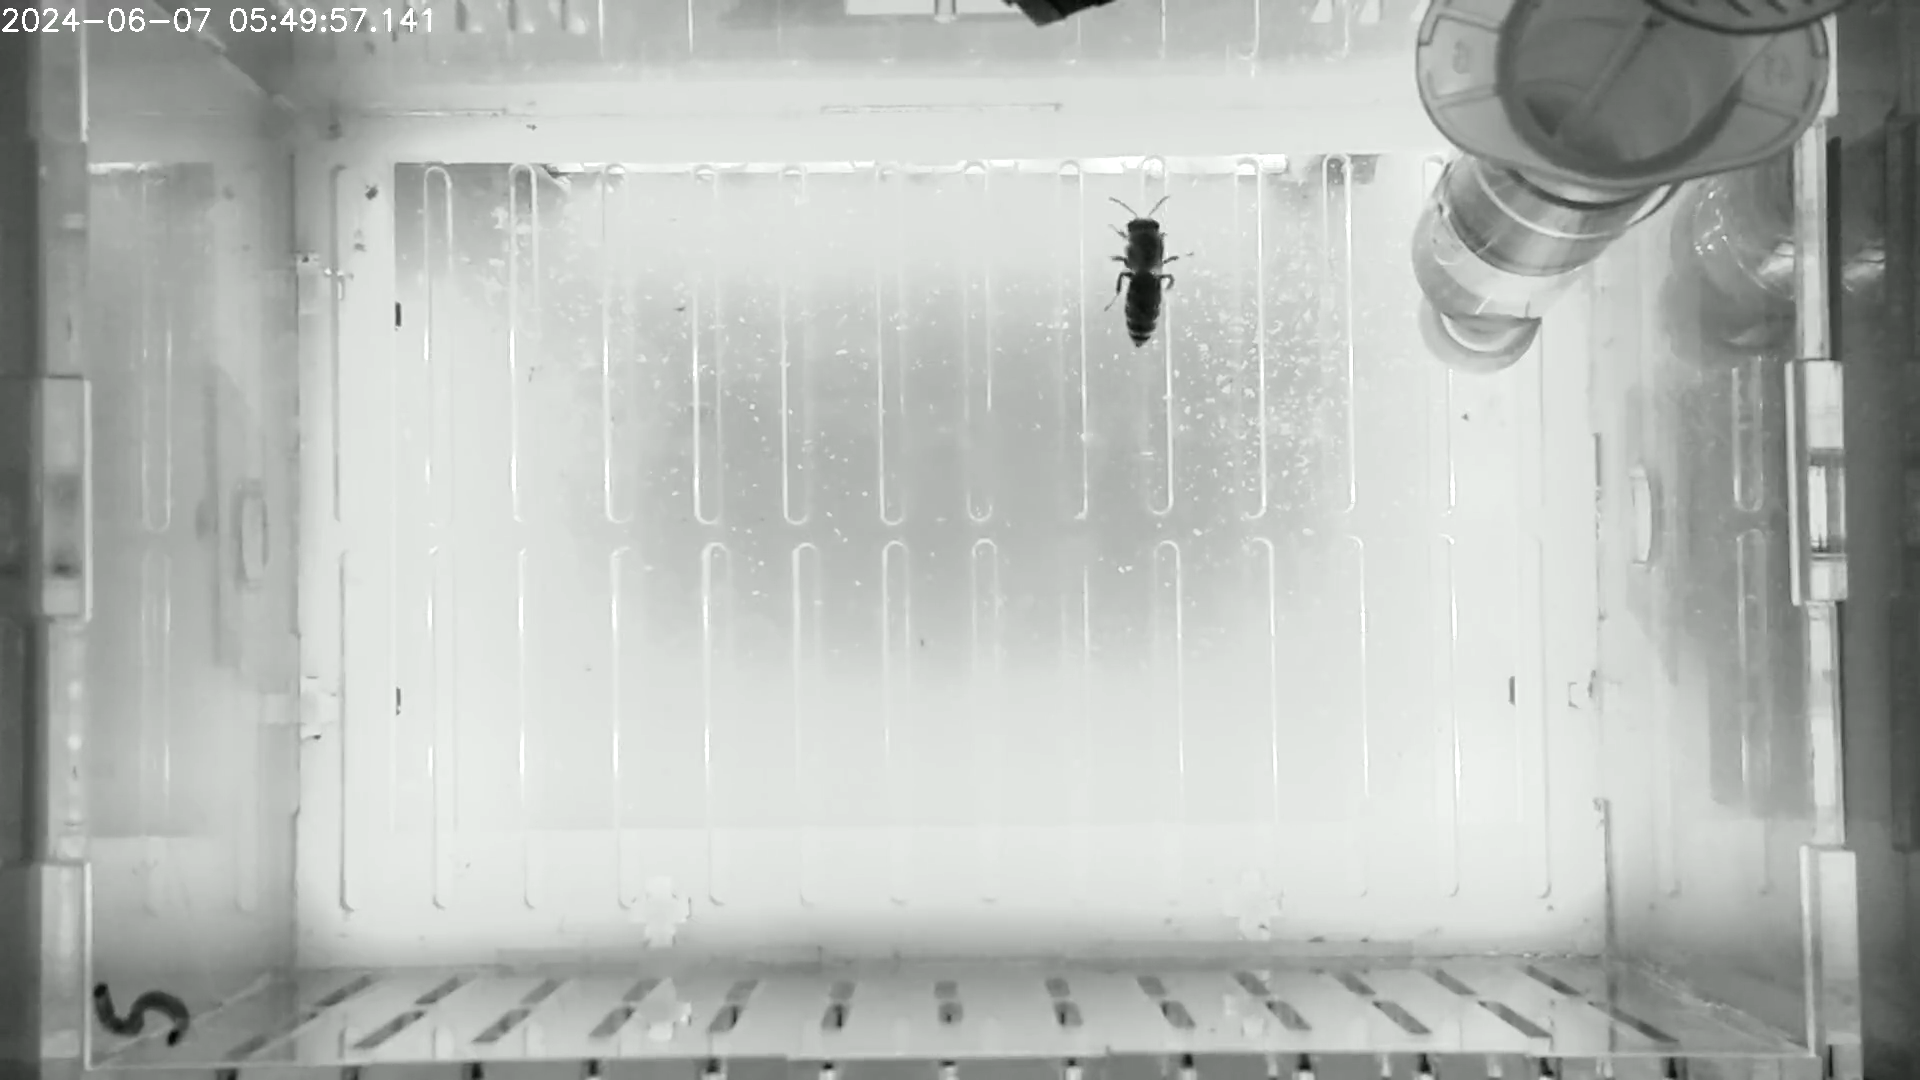bee: (1093, 188, 1202, 352)
feeder: (1405, 145, 1629, 331)
